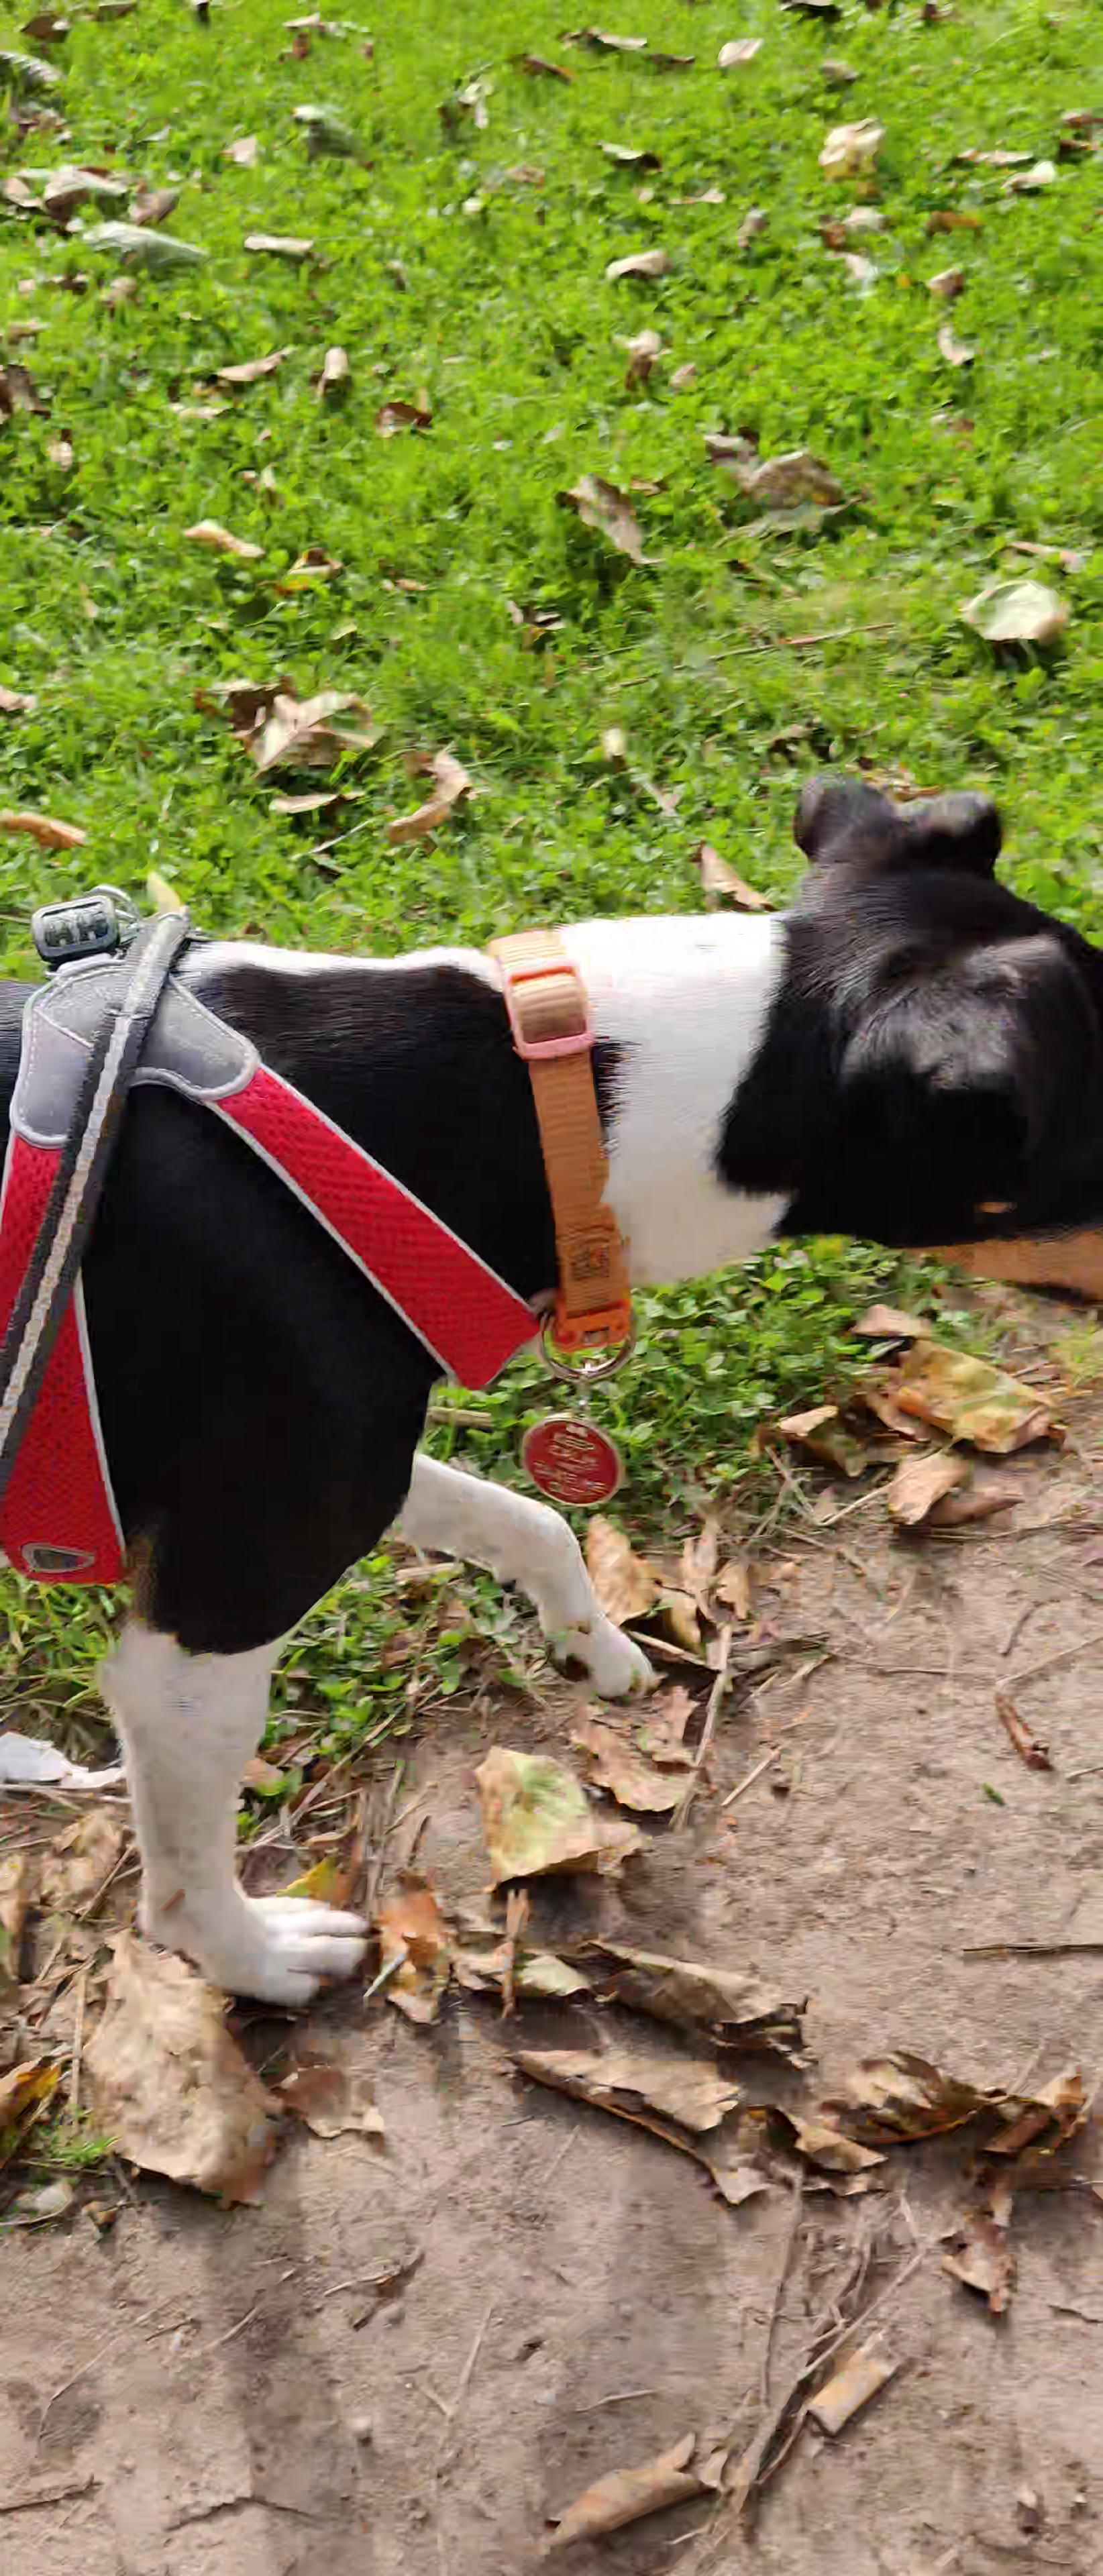Dog: (0, 726, 1103, 2049)
